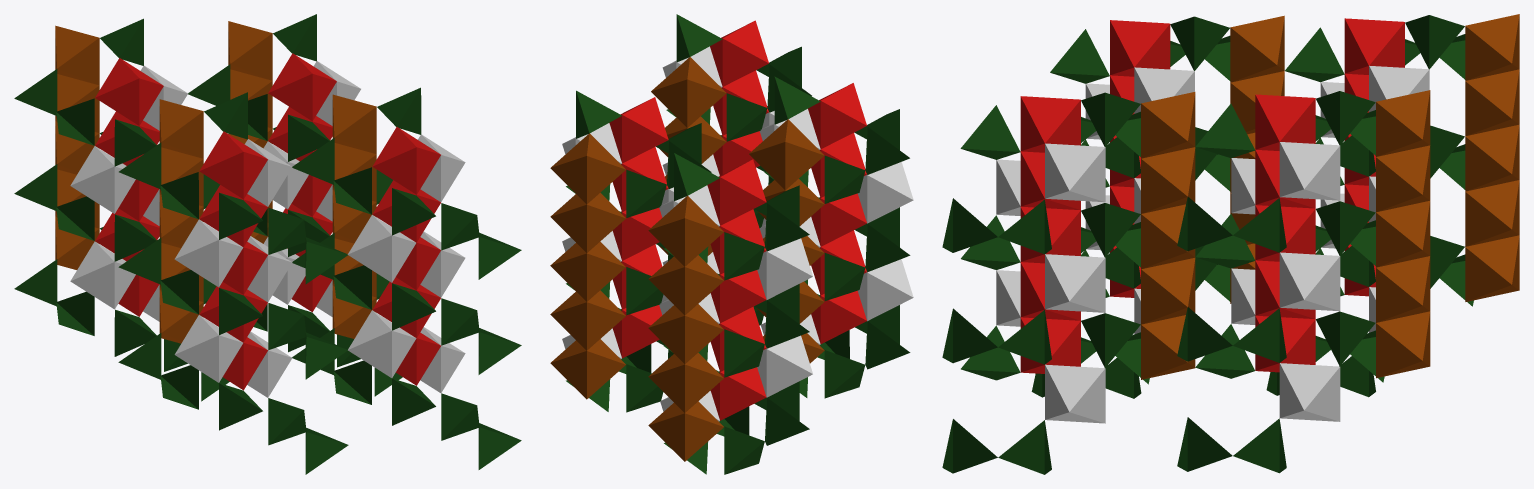
File: Epidoto_sem_sitios_A.obj
3 renders of one model, left to right at view 1: azimuth 30°, elevation 25°; view 2: azimuth 150°, elevation 25°; view 3: azimuth 270°, elevation 25°, orthographic. The views are drawn at different scales.
Parts seen in each view (by area): view 1: Epidoteo_sem_A_site_Solid.112_tetraedros, Epidoteo_sem_A_site_Solid.112_Site_M3, Epidoteo_sem_A_site_Solid.112_Coordenacao6, Epidoteo_sem_A_site_Solid.112_Site_M4; view 2: Epidoteo_sem_A_site_Solid.112_tetraedros, Epidoteo_sem_A_site_Solid.112_Site_M4, Epidoteo_sem_A_site_Solid.112_Coordenacao6, Epidoteo_sem_A_site_Solid.112_Site_M3; view 3: Epidoteo_sem_A_site_Solid.112_tetraedros, Epidoteo_sem_A_site_Solid.112_Site_M4, Epidoteo_sem_A_site_Solid.112_Site_M3, Epidoteo_sem_A_site_Solid.112_Coordenacao6.
Part boxes in pixels (x1,y1,x2,y2): Epidoteo_sem_A_site_Solid.112_tetraedros: [14, 14, 521, 474]; Epidoteo_sem_A_site_Solid.112_Site_M3: [70, 61, 465, 397]; Epidoteo_sem_A_site_Solid.112_Coordenacao6: [95, 53, 440, 390]; Epidoteo_sem_A_site_Solid.112_Site_M4: [55, 21, 376, 343]; Epidoteo_sem_A_site_Solid.112_tetraedros: [566, 14, 910, 474]; Epidoteo_sem_A_site_Solid.112_Site_M4: [550, 57, 824, 461]; Epidoteo_sem_A_site_Solid.112_Coordenacao6: [609, 20, 866, 420]; Epidoteo_sem_A_site_Solid.112_Site_M3: [562, 46, 913, 421]; Epidoteo_sem_A_site_Solid.112_tetraedros: [942, 15, 1473, 474]; Epidoteo_sem_A_site_Solid.112_Site_M4: [1141, 14, 1519, 379]; Epidoteo_sem_A_site_Solid.112_Site_M3: [996, 65, 1429, 423]; Epidoteo_sem_A_site_Solid.112_Coordenacao6: [1020, 18, 1404, 373].
Bounding box in the file's own units: 0.8671 × 0.9863 × 1.34.
